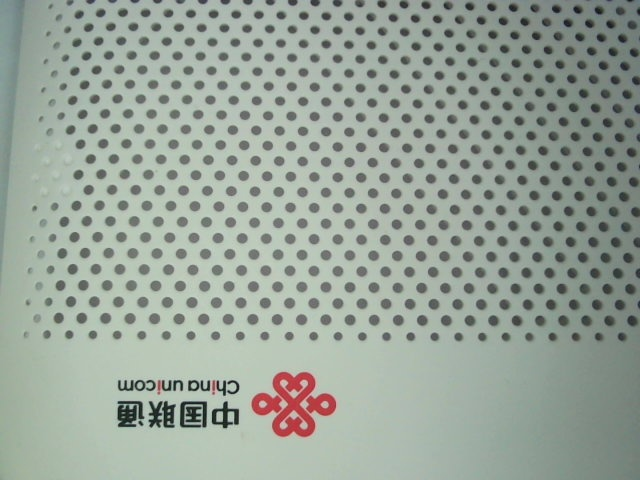AD_ChinaUnicom: (113, 358, 342, 446)
